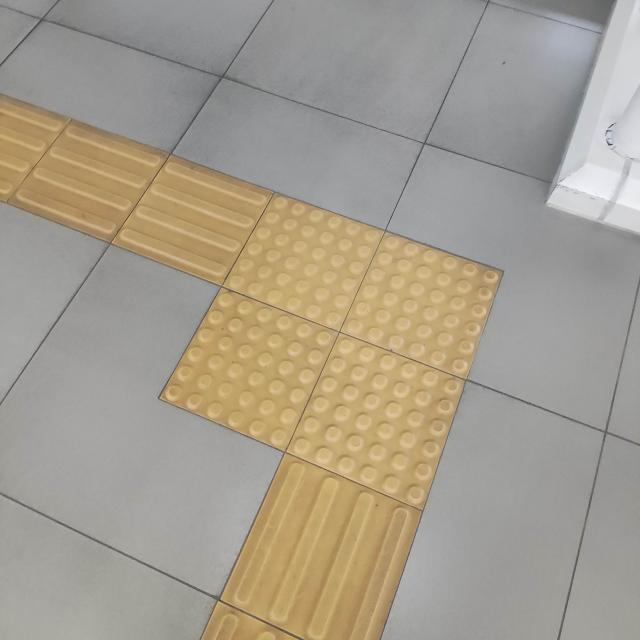kiri: (30, 109, 506, 530)
